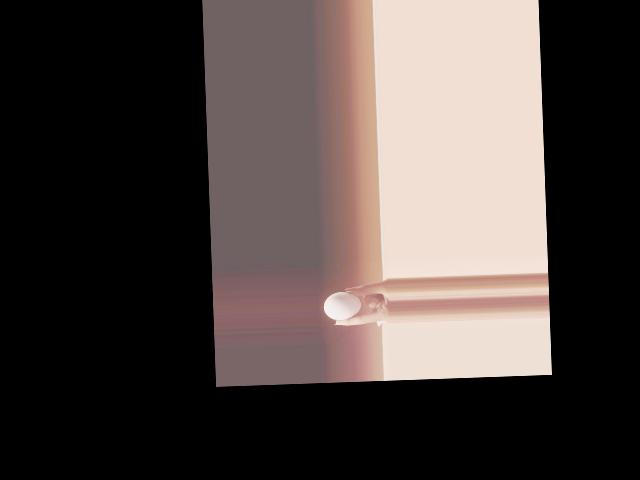egg: (323, 290, 362, 320)
